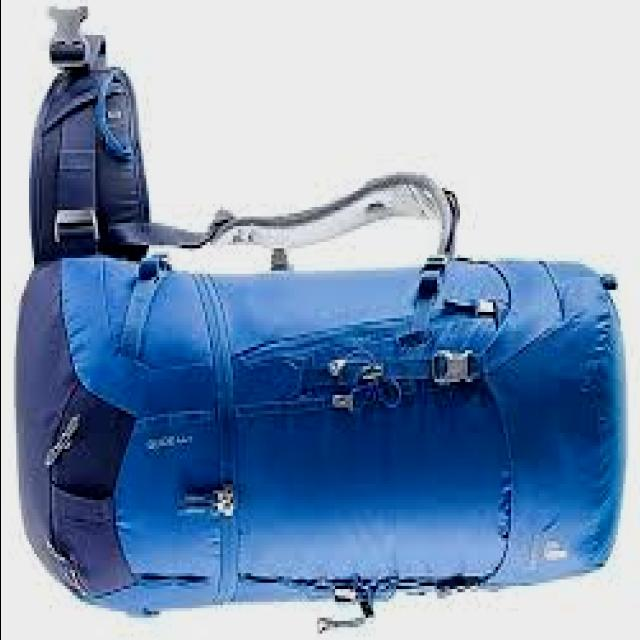backpack: (17, 8, 631, 632)
